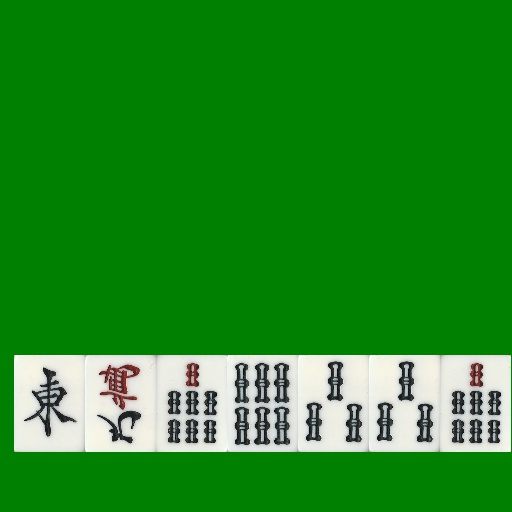3s: (298, 355, 369, 452), (369, 355, 440, 452)
6s: (227, 355, 298, 452)
7s: (156, 355, 227, 452), (440, 355, 511, 452)
9m: (85, 355, 156, 452)
east: (14, 355, 85, 452)
